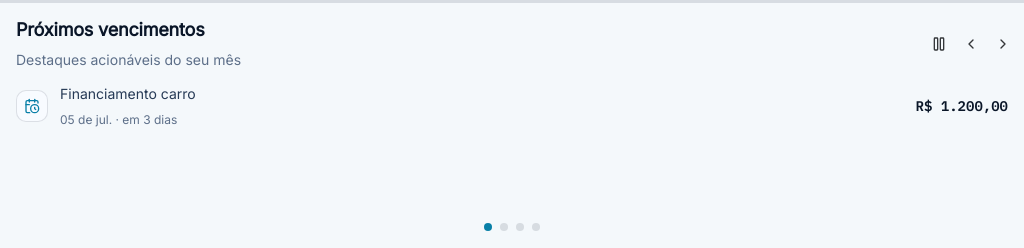
Test: DashboardInsightCarousel › jumps to a panel via its dot indicator
What coordinates should you click on to do the following:
click the 3rd button with class "insight-carousel__dot"
I would click on:
 (520, 227)
Its box is 516,223 -> 524,231.
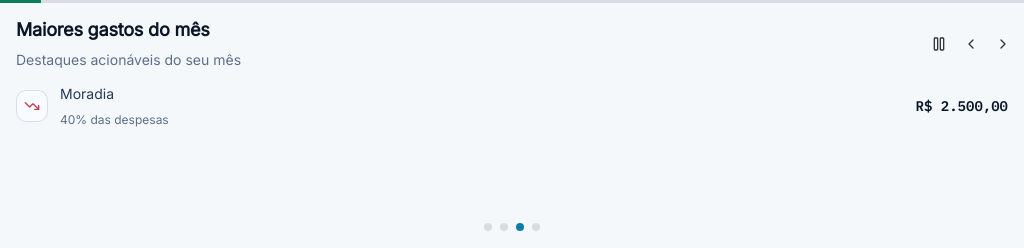
Now the text "Maiores gastos do mês" is shown, box 16,16 -> 241,45
